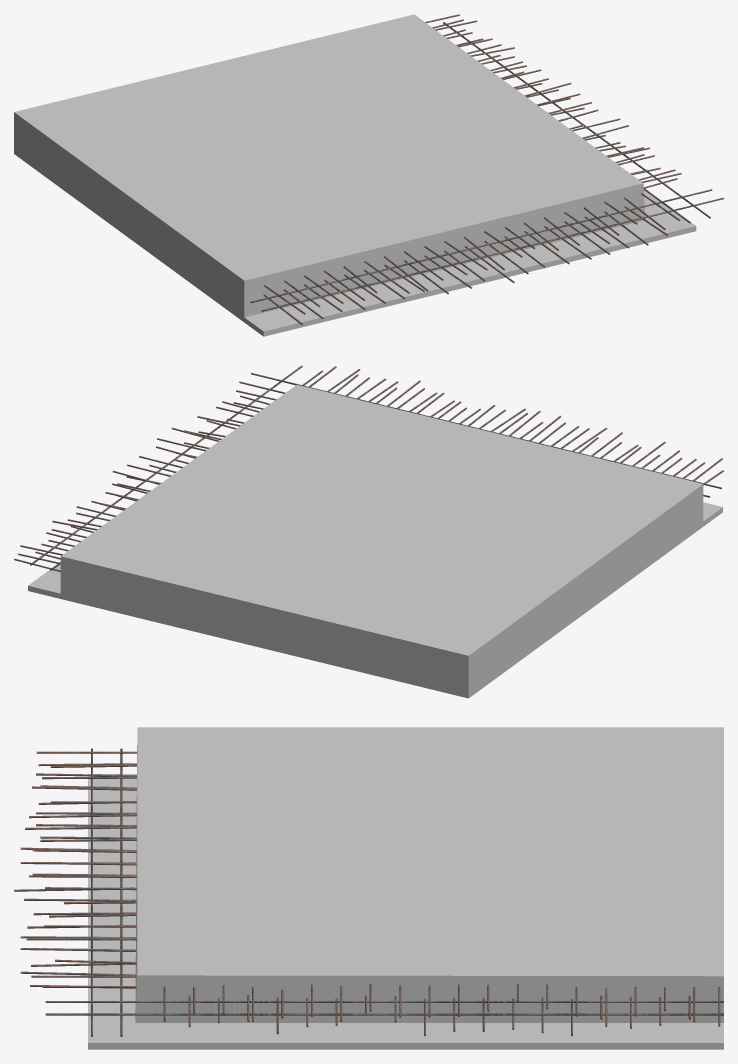
Rendered from Roof_03a_snaps005.fbx.
3 renders of one model, top to bottom at view 1: azimuth 30°, elevation 25°; view 2: azimuth 150°, elevation 25°; view 3: azimuth 270°, elevation 25°, orthographic. The views are drawn at different scales.
Visible parts, largest first — view 1: Roof_03a_snaps005_LOD0; view 2: Roof_03a_snaps005_LOD0; view 3: Roof_03a_snaps005_LOD0.
Boxes of the visible parts, x1,y1,x2,y2 form: Roof_03a_snaps005_LOD0: [14, 14, 723, 336]; Roof_03a_snaps005_LOD0: [14, 365, 723, 698]; Roof_03a_snaps005_LOD0: [14, 727, 723, 1049].
Size of what is drawn, in the model's own units: 576 by 50 by 603.
